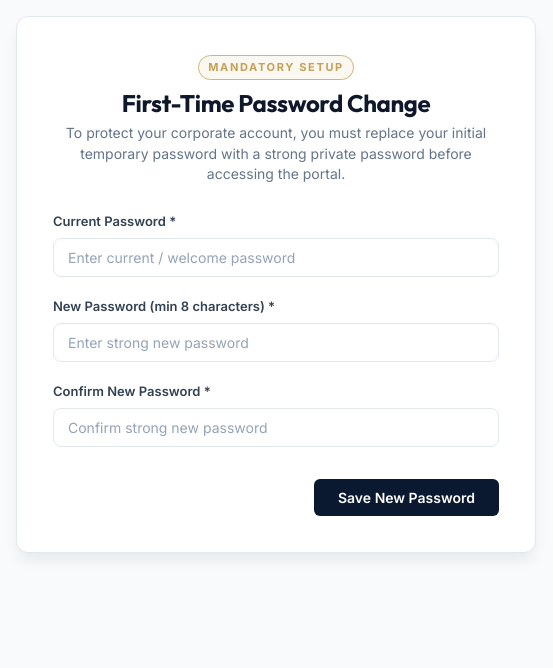
Test case: ChangePasswordPage Component (src/app/(portal)/settings/change-password/page.tsx) › shows default error banner when server action returns failure without error text
Type "wrong-current" into the password field labelled "Current Password *" at (276, 258), box [53,238,499,277]
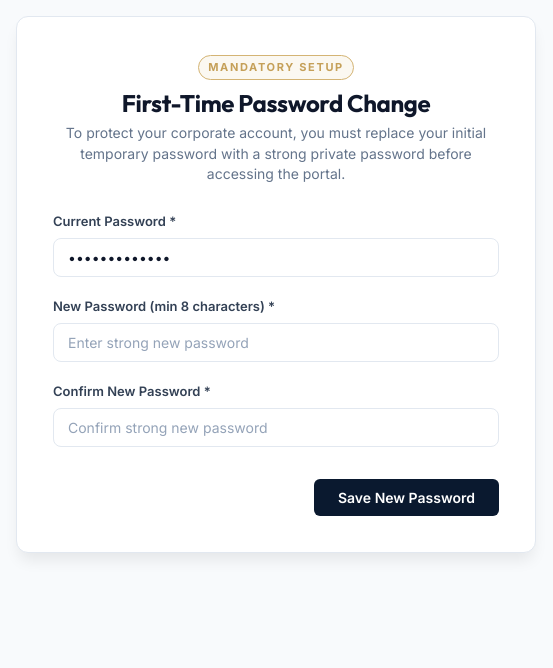
Type "brandNewPass123" into the password field labelled "New Password (min 8 characters) *" at (276, 342), box [53,323,499,362]
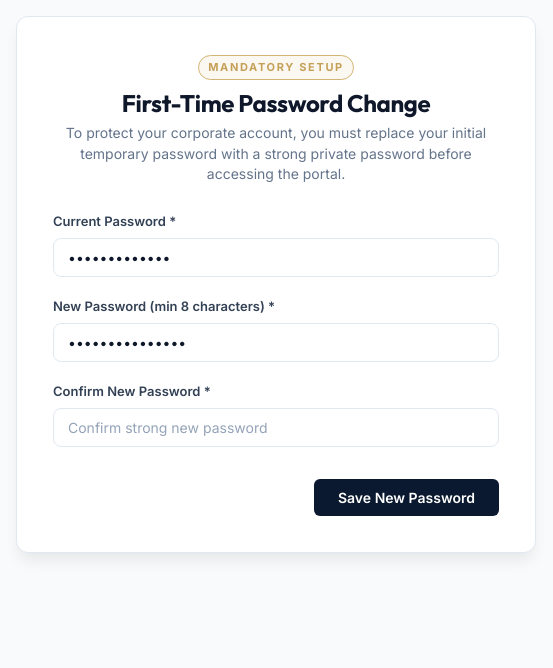
Type "brandNewPass123" into the password field labelled "Confirm New Password *" at (276, 427), box [53,408,499,447]
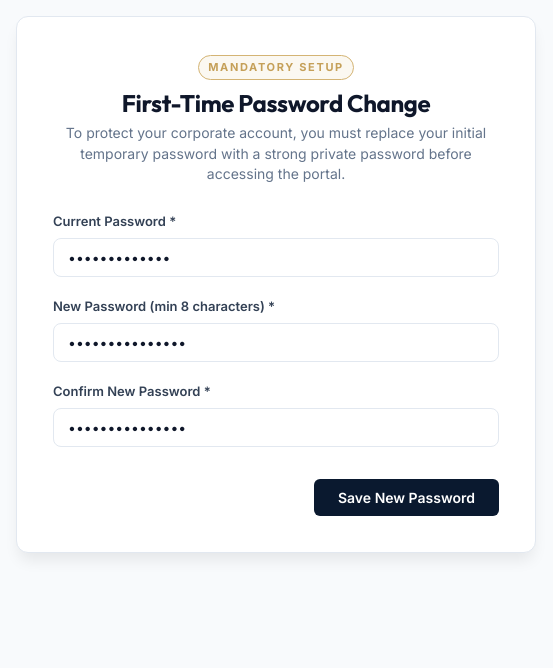
Click the button "Save New Password" at (406, 497), box [314,479,499,516]
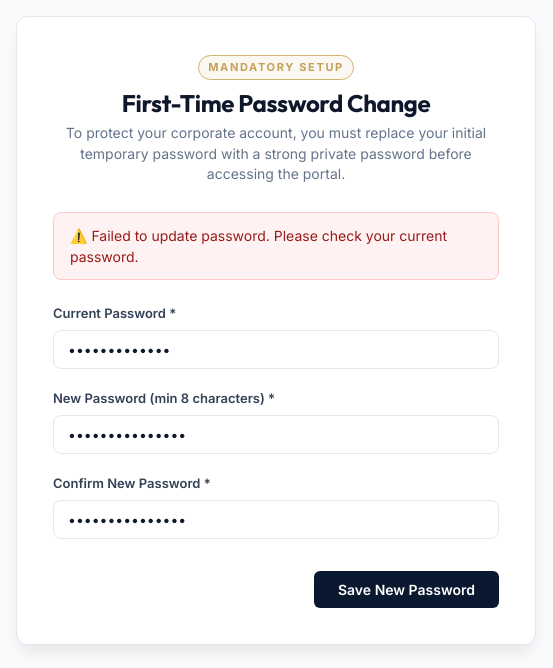
Result: the text "Failed to update password. Please check your current password" is shown at [70,227,447,265]
